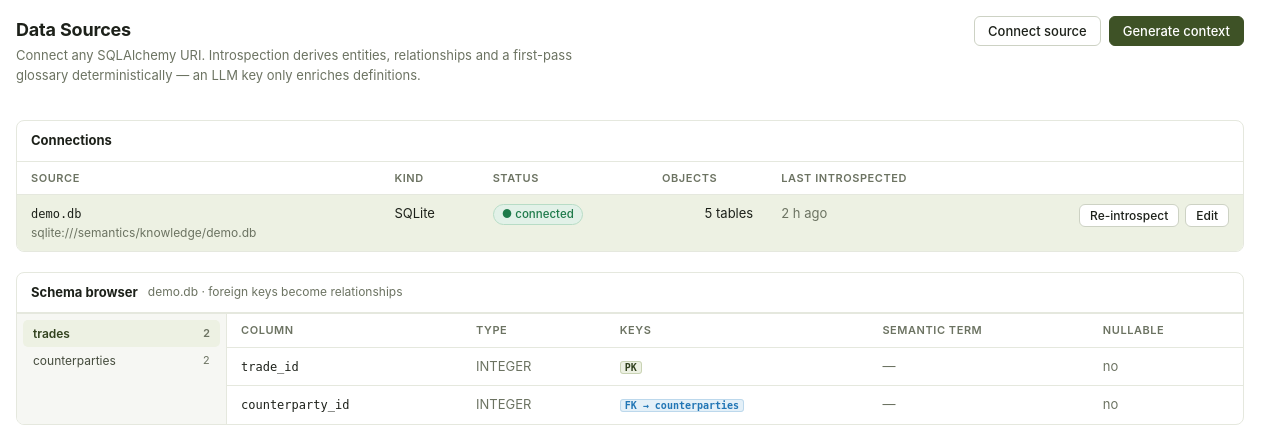
it: shows a semantic term chip for a column mapped in the context glossary
Click the option "counterparties 2".
click(122, 360)  # box [23,347,220,374]
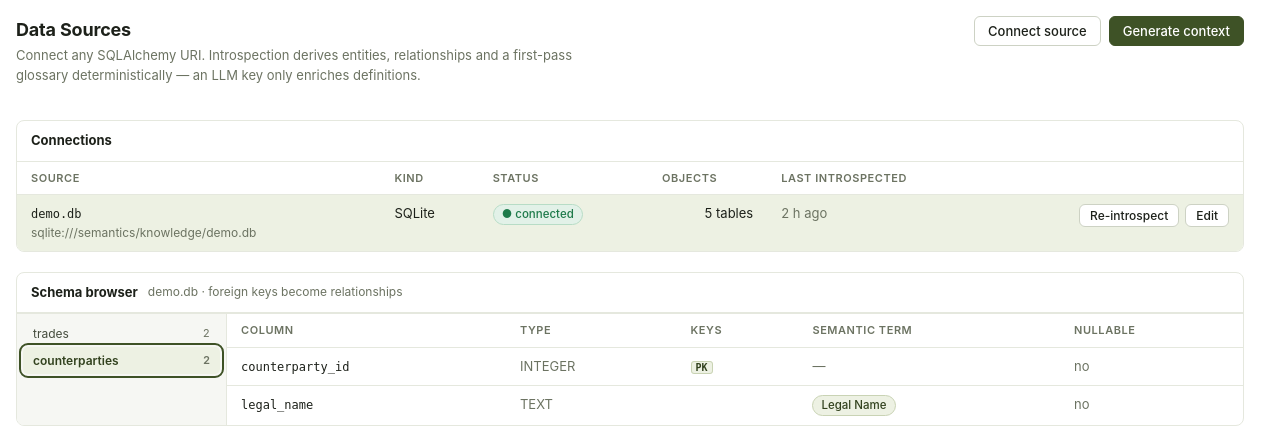
expect the cell "—" is shown: met, box [798,347,1060,386]
expect the text "Legal Name" is shown: met, box [812,395,896,416]
